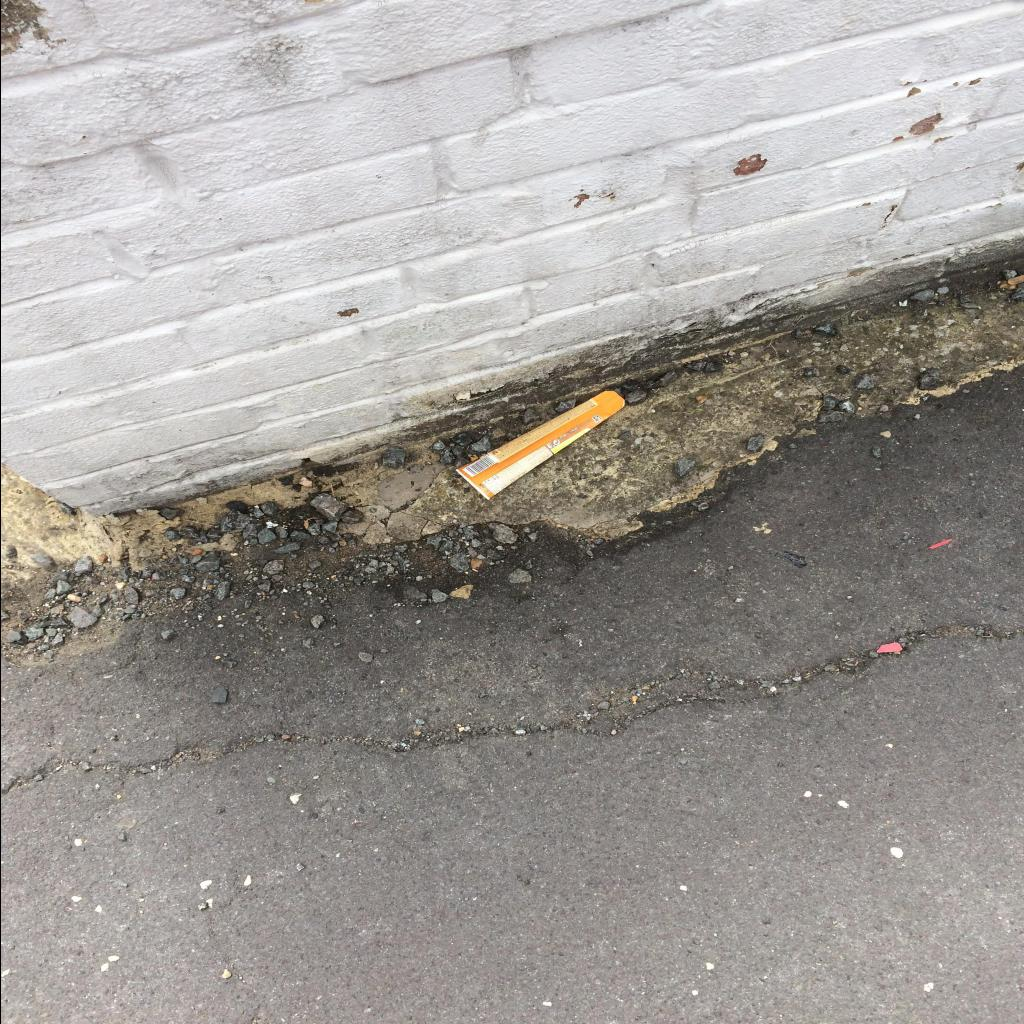Other carton: (454, 390, 624, 500)
